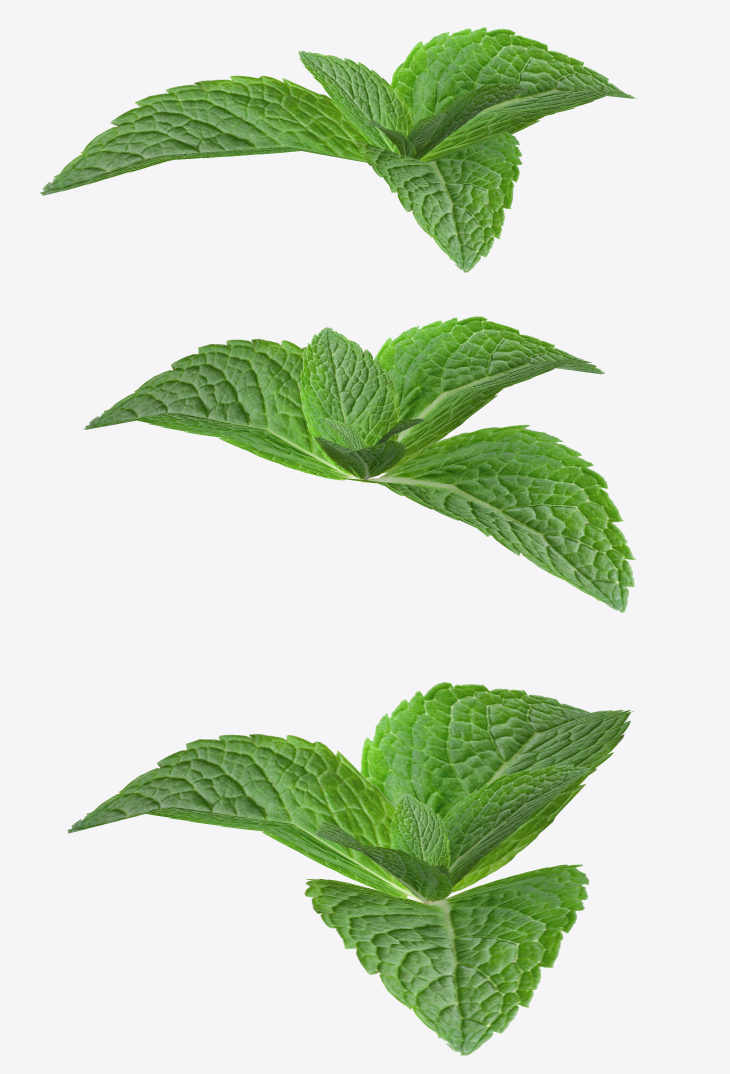
Rendered from Peppermint.fbx.
3 renders of one model, top to bottom at view 1: azimuth 30°, elevation 25°; view 2: azimuth 150°, elevation 25°; view 3: azimuth 270°, elevation 25°, orthographic. The views are drawn at different scales.
Visible parts, largest first — view 1: Peppermint; view 2: Peppermint; view 3: Peppermint.
Part boxes in pixels (x1=…): Peppermint: x1=40, y1=27, x2=636, y2=272; Peppermint: x1=82, y1=316, x2=635, y2=612; Peppermint: x1=67, y1=682, x2=633, y2=1055.
Size of the model in its own units: 0.0652 by 0.05 by 0.0105.
